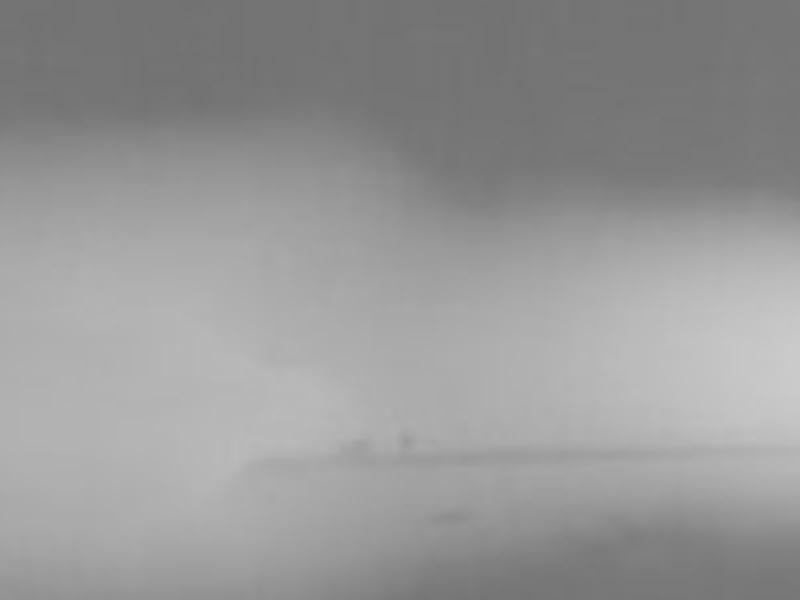defect: (346, 436, 378, 462), (398, 430, 420, 454)
